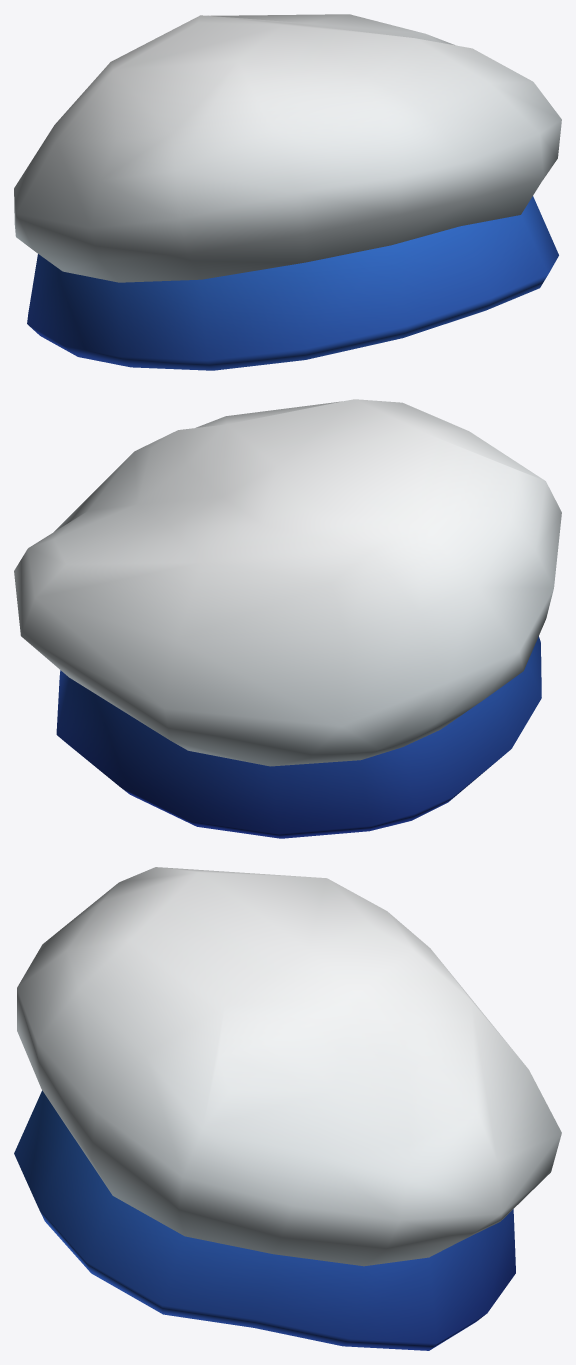
File: Hat_19.glb
3 views of the same model, one above another, from view 1: azimuth 30°, elevation 25°; view 2: azimuth 150°, elevation 25°; view 3: azimuth 270°, elevation 25° (orthographic). The views are drawn at different scales.
Visible parts, largest first — view 1: Hat_19; view 2: Hat_19; view 3: Hat_19.
Part boxes in pixels (x1,y1,x2,y2): Hat_19: (14,14,561,370); Hat_19: (14,399,561,838); Hat_19: (14,867,561,1350).
Size of the model in its own units: 0.7115 by 0.4636 by 0.6334.
1 material, 1 textured.
